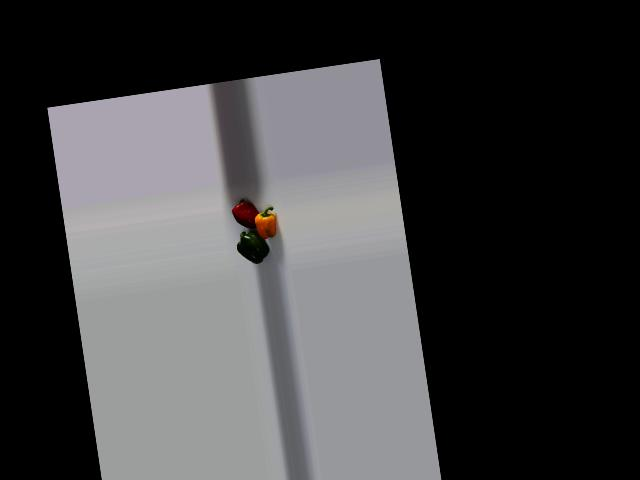bell_pepper: (248, 206, 280, 241)
